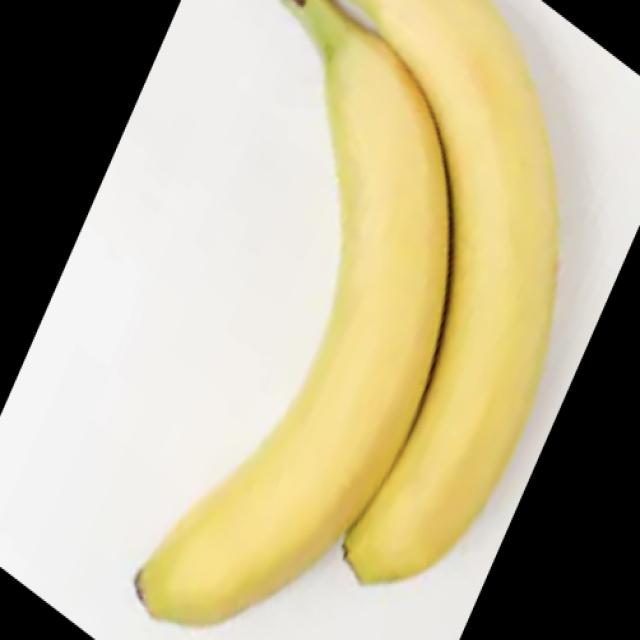god quality banana: (138, 2, 558, 624)
